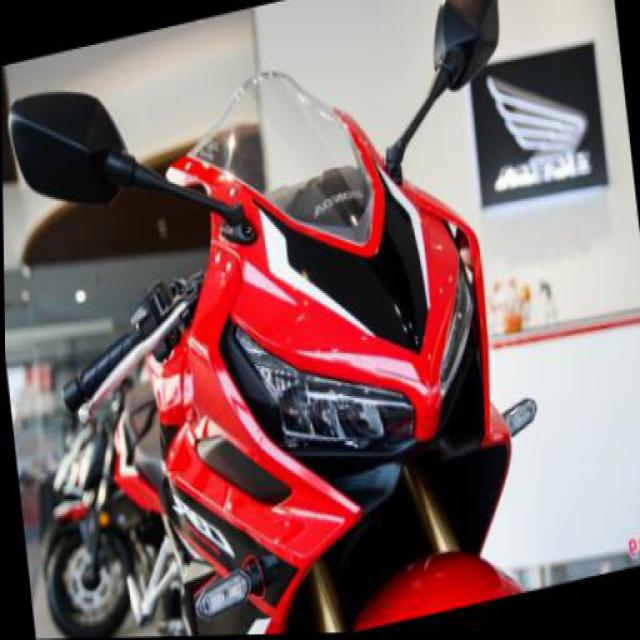CBR650R: (94, 17, 544, 636)
